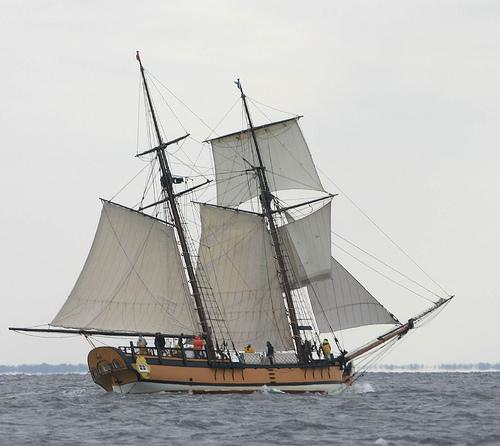Ship: (11, 56, 454, 394)
